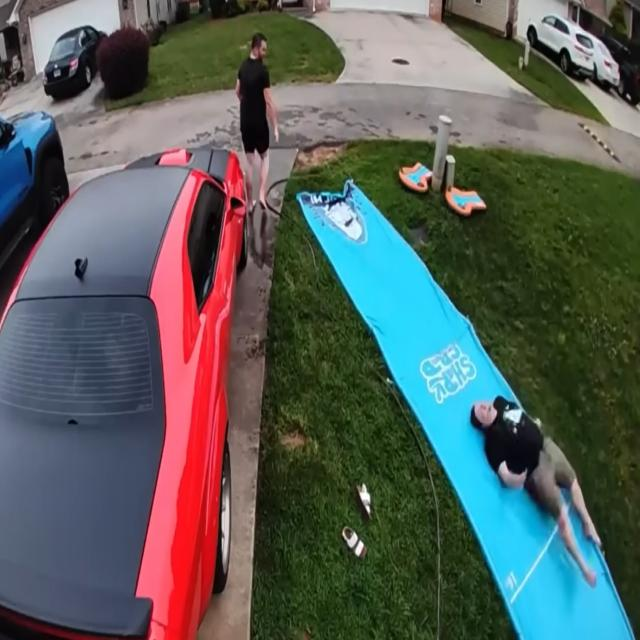fallen: (470, 396, 601, 586)
standing: (236, 33, 278, 212)
